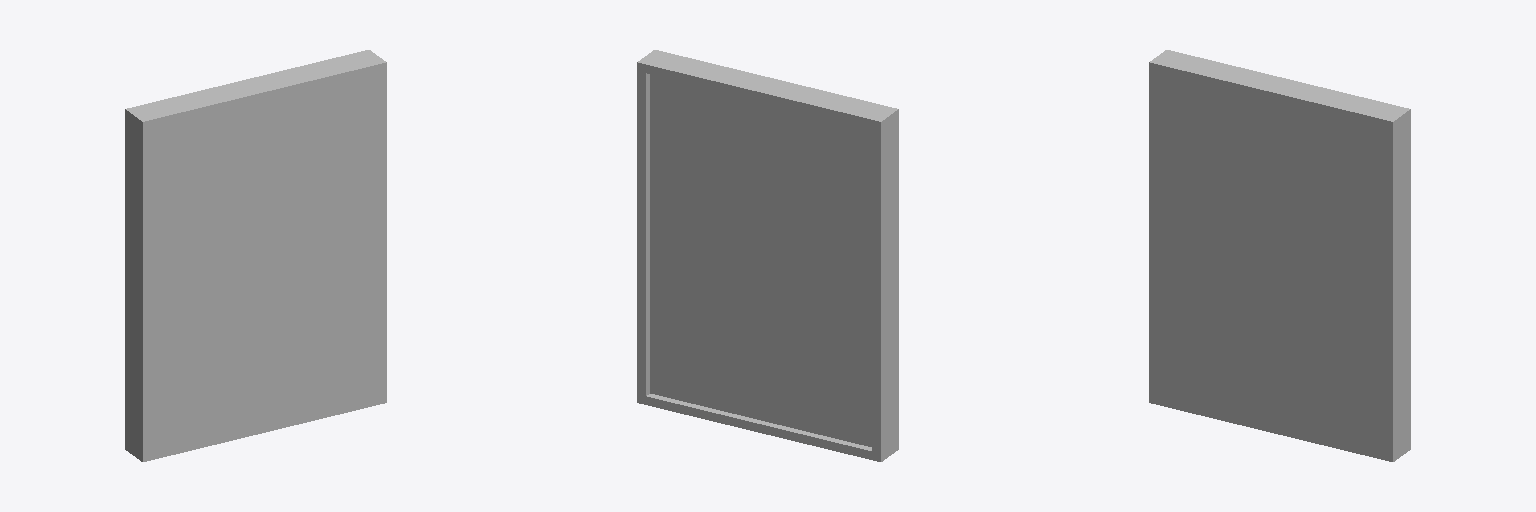
Rendered from hologramModule.obj.
3 renders of one model, left to right at view 1: azimuth 30°, elevation 25°; view 2: azimuth 150°, elevation 25°; view 3: azimuth 330°, elevation 25°, orthographic.
Visible parts, largest first — view 1: Cube.034; view 2: Cube.035, Cube.034; view 3: Cube.034.
Part boxes in pixels (x1,y1,x2,y2): Cube.034: (125,50,386,461); Cube.035: (650,74,871,446); Cube.034: (637,50,898,461); Cube.034: (1149,50,1410,461).
Size of the model in its own units: 0.2969 by 0.3958 by 0.0371.